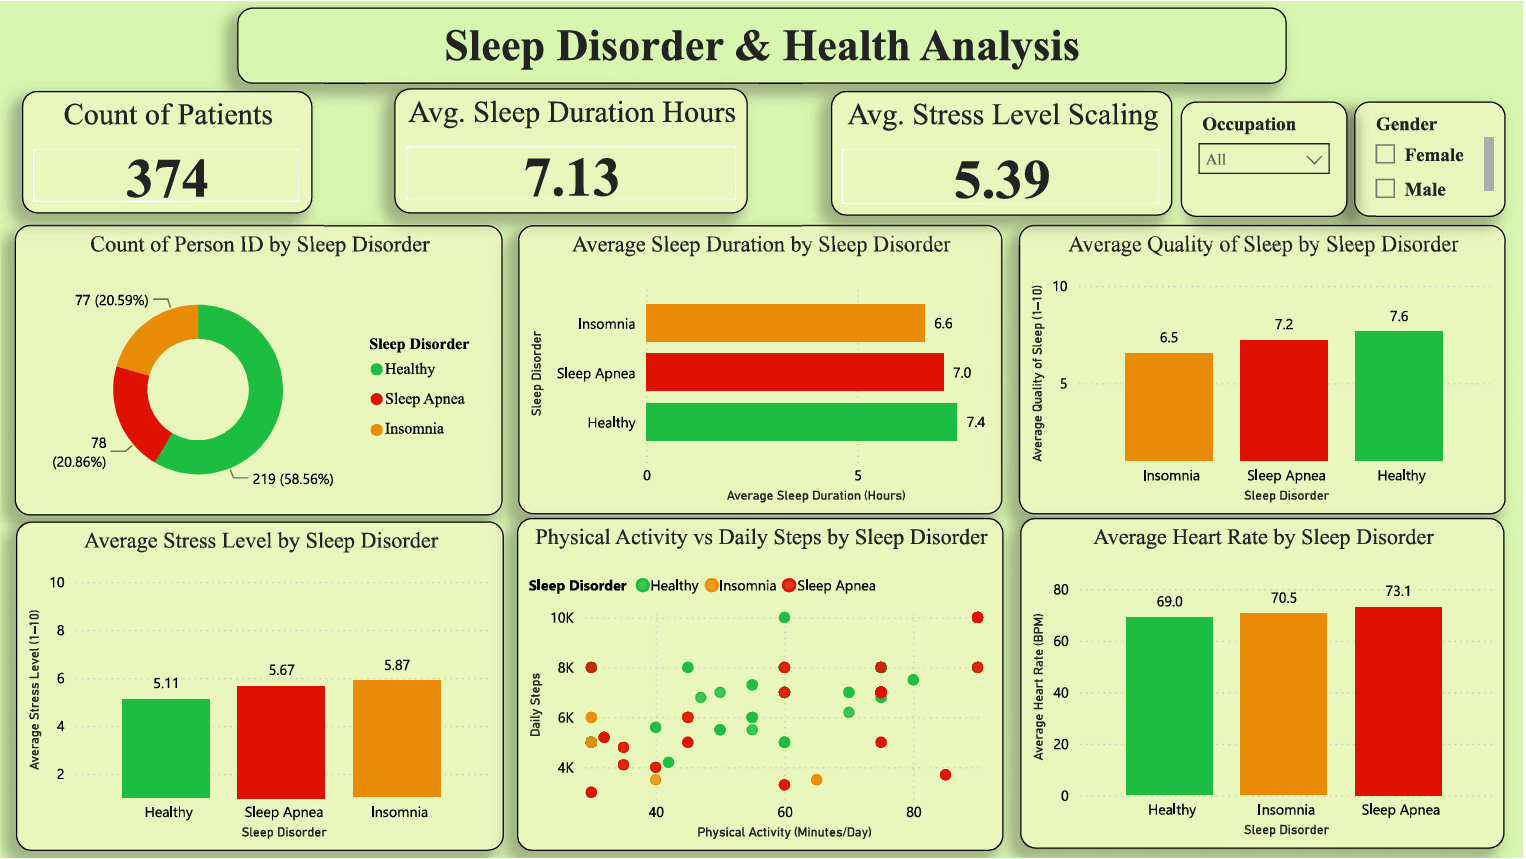

This screenshot's page, from the dashboard's own definition file:
{"tool":"powerbi","page":{"name":"Page 1","canvas":[1280,720],"ordinal":0},"visuals":[{"type":"donutChart","fields":{"Category":["Sheet1.Sleep Disorder"],"Y":["CountNonNull(Sheet1.Person ID)"]},"box":[11.5,187.7,410,243.8],"z":0},{"type":"clusteredBarChart","title":"Average Sleep Duration by Sleep Disorder","fields":{"Category":["Sheet1.Sleep Disorder"],"Y":["Avg(Sheet1.Sleep Duration)"]},"box":[435,187.7,407.1,243.5],"z":1000},{"type":"clusteredColumnChart","title":"Average Quality of Sleep by Sleep Disorder","fields":{"Category":["Sheet1.Sleep Disorder"],"Y":["Avg(Sheet1.Quality of Sleep)"]},"box":[855.6,187.7,409,243.5],"z":2000},{"type":"clusteredColumnChart","title":"Average Stress Level by Sleep Disorder","fields":{"Category":["Sheet1.Sleep Disorder"],"Y":["Avg(Sheet1.Stress Level)"]},"box":[13.3,436.7,410,277.8],"z":3000},{"type":"clusteredColumnChart","title":"Average Heart Rate by Sleep Disorder","fields":{"Category":["Sheet1.Sleep Disorder"],"Y":["Avg(Sheet1.Heart Rate)"]},"box":[856.7,434.4,407.8,277.8],"z":4000},{"type":"scatterChart","title":"Physical Activity vs Daily Steps by Sleep Disorder","fields":{"X":["Avg(Sheet1.Physical Activity Level)"],"Y":["Avg(Sheet1.Daily Steps)"],"Series":["Sheet1.Sleep Disorder"],"Category":["Sheet1.Person ID"]},"box":[434.4,434.4,408.9,280],"z":5000},{"type":"textbox","box":[199,5,882,64],"z":6000},{"type":"slicer","fields":{"Values":["Sheet1.Gender"]},"box":[1137.6,83.7,127,97.2],"z":7000},{"type":"slicer","fields":{"Values":["Sheet1.Occupation"]},"box":[992.2,83.7,139.5,97.2],"z":8000},{"type":"cardVisual","title":"Avg. Sleep Duration Hours","fields":{"Data":["Avg(Sheet1.Sleep Duration)"]},"box":[330.8,73.1,297.7,104.6],"z":9000},{"type":"cardVisual","title":"Avg. Stress Level Scaling","fields":{"Data":["Avg(Sheet1.Stress Level)"]},"box":[698.5,74.6,286.9,105.4],"z":10000},{"type":"cardVisual","title":"Count of Patients","fields":{"Data":["Count(Sheet1.Person ID)"]},"box":[17.7,74.6,243.8,103.8],"z":11000}]}

Visuals, with their boxes in screenshot pixels (x1, y1, x2, y2), scaled from the page's 1280x720 canvas onto the 1526x859 screenshot:
donutChart - Sheet1.Sleep Disorder x CountNonNull(Sheet1.Person ID): l=14, t=224, r=503, b=515
"Average Sleep Duration by Sleep Disorder" clusteredBarChart: l=519, t=224, r=1004, b=514
"Average Quality of Sleep by Sleep Disorder" clusteredColumnChart: l=1020, t=224, r=1508, b=514
"Average Stress Level by Sleep Disorder" clusteredColumnChart: l=16, t=521, r=505, b=852
"Average Heart Rate by Sleep Disorder" clusteredColumnChart: l=1021, t=518, r=1508, b=850
"Physical Activity vs Daily Steps by Sleep Disorder" scatterChart: l=518, t=518, r=1005, b=852
textbox: l=237, t=6, r=1289, b=82
slicer - Sheet1.Gender: l=1356, t=100, r=1508, b=216
slicer - Sheet1.Occupation: l=1183, t=100, r=1349, b=216
"Avg. Sleep Duration Hours" cardVisual: l=394, t=87, r=749, b=212
"Avg. Stress Level Scaling" cardVisual: l=833, t=89, r=1175, b=215
"Count of Patients" cardVisual: l=21, t=89, r=312, b=213
